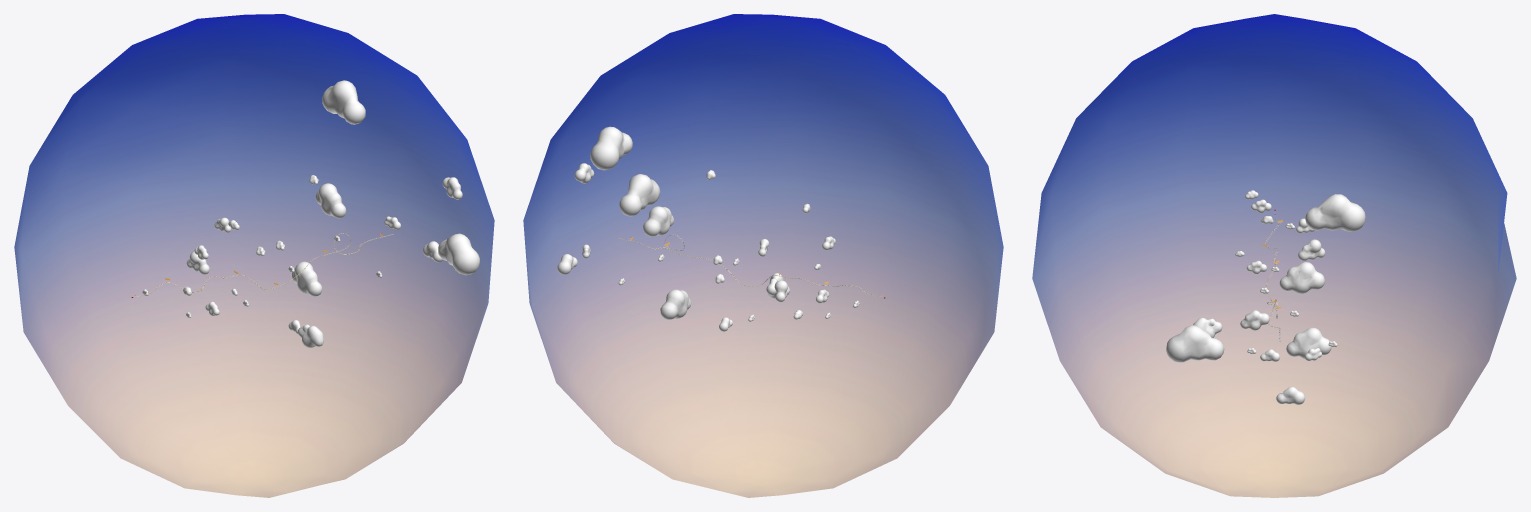
The model's file is train_global.gltf.
3 renders of one model, left to right at view 1: azimuth 30°, elevation 25°; view 2: azimuth 150°, elevation 25°; view 3: azimuth 270°, elevation 25°, orthographic.
Parts seen in each view (by area): view 1: sky_sphere, cloud030, cloud001, cloud005, cloud021; view 2: sky_sphere, cloud030, cloud001, cloud021, cloud005; view 3: sky_sphere, cloud030, cloud001, cloud005, cloud021.
Part boxes in pixels (bbox=[...]): sky_sphere: bbox=[14, 14, 494, 497]; cloud030: bbox=[322, 80, 365, 124]; cloud001: bbox=[438, 233, 479, 275]; cloud005: bbox=[315, 183, 346, 218]; cloud021: bbox=[291, 261, 322, 296]; sky_sphere: bbox=[523, 14, 1003, 497]; cloud030: bbox=[590, 126, 632, 170]; cloud001: bbox=[619, 174, 660, 216]; cloud021: bbox=[660, 289, 691, 319]; cloud005: bbox=[643, 206, 673, 236]; sky_sphere: bbox=[1032, 14, 1516, 497]; cloud030: bbox=[1305, 194, 1365, 231]; cloud001: bbox=[1166, 325, 1224, 362]; cloud005: bbox=[1279, 262, 1324, 293]; cloud021: bbox=[1286, 327, 1331, 358].
Bounding box in the file's own units: 90.07 × 90.51 × 90.07.
32 materials, 9 textured.
